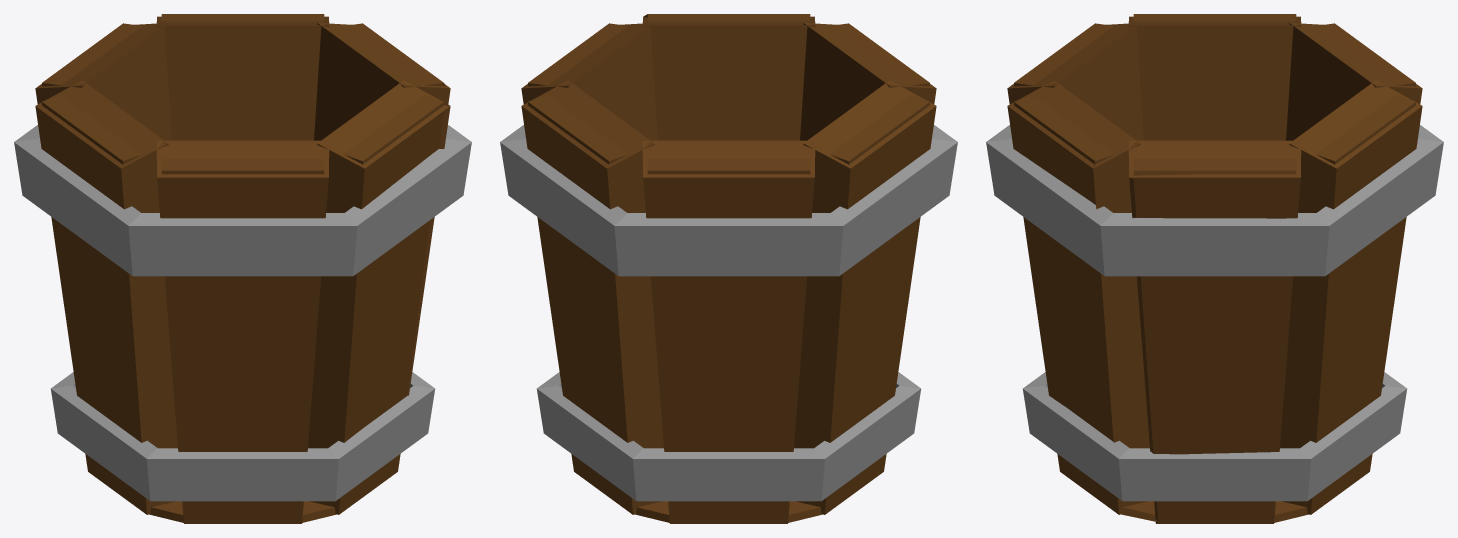
The model's file is Bucket (1)solidfy2.fbx.
3 renders of one model, left to right at view 1: azimuth 30°, elevation 25°; view 2: azimuth 150°, elevation 25°; view 3: azimuth 270°, elevation 25°, orthographic.
Parts seen in each view (by area): view 1: Circle, Circle.002; view 2: Circle, Circle.002; view 3: Circle, Circle.002.
Part boxes in pixels (x1=…): Circle: x1=35, y1=14, x2=450, y2=523; Circle.002: x1=14, y1=125, x2=471, y2=501; Circle: x1=521, y1=14, x2=936, y2=523; Circle.002: x1=500, y1=125, x2=957, y2=501; Circle: x1=1007, y1=14, x2=1422, y2=523; Circle.002: x1=986, y1=125, x2=1443, y2=501.
Bounding box in the file's own units: 46.39 × 49.08 × 53.57.
